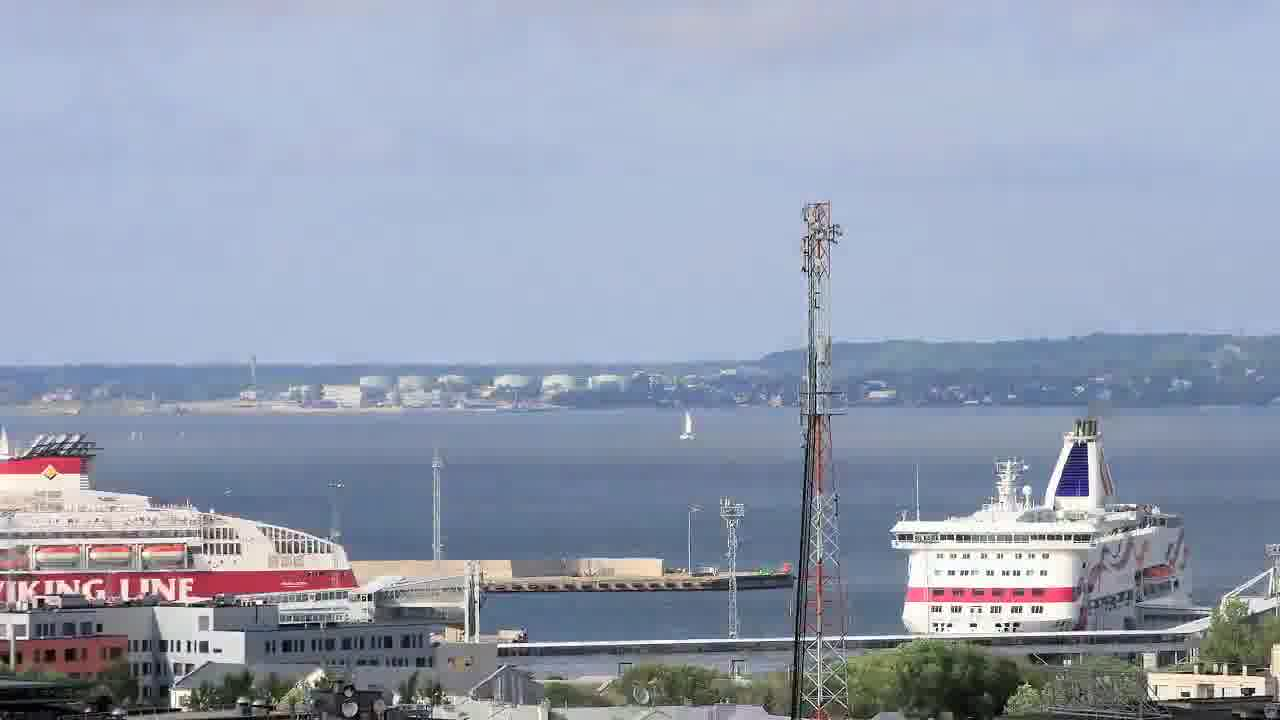type-2: (653, 395, 731, 454)
type-3: (868, 415, 1225, 638), (0, 433, 367, 625)
